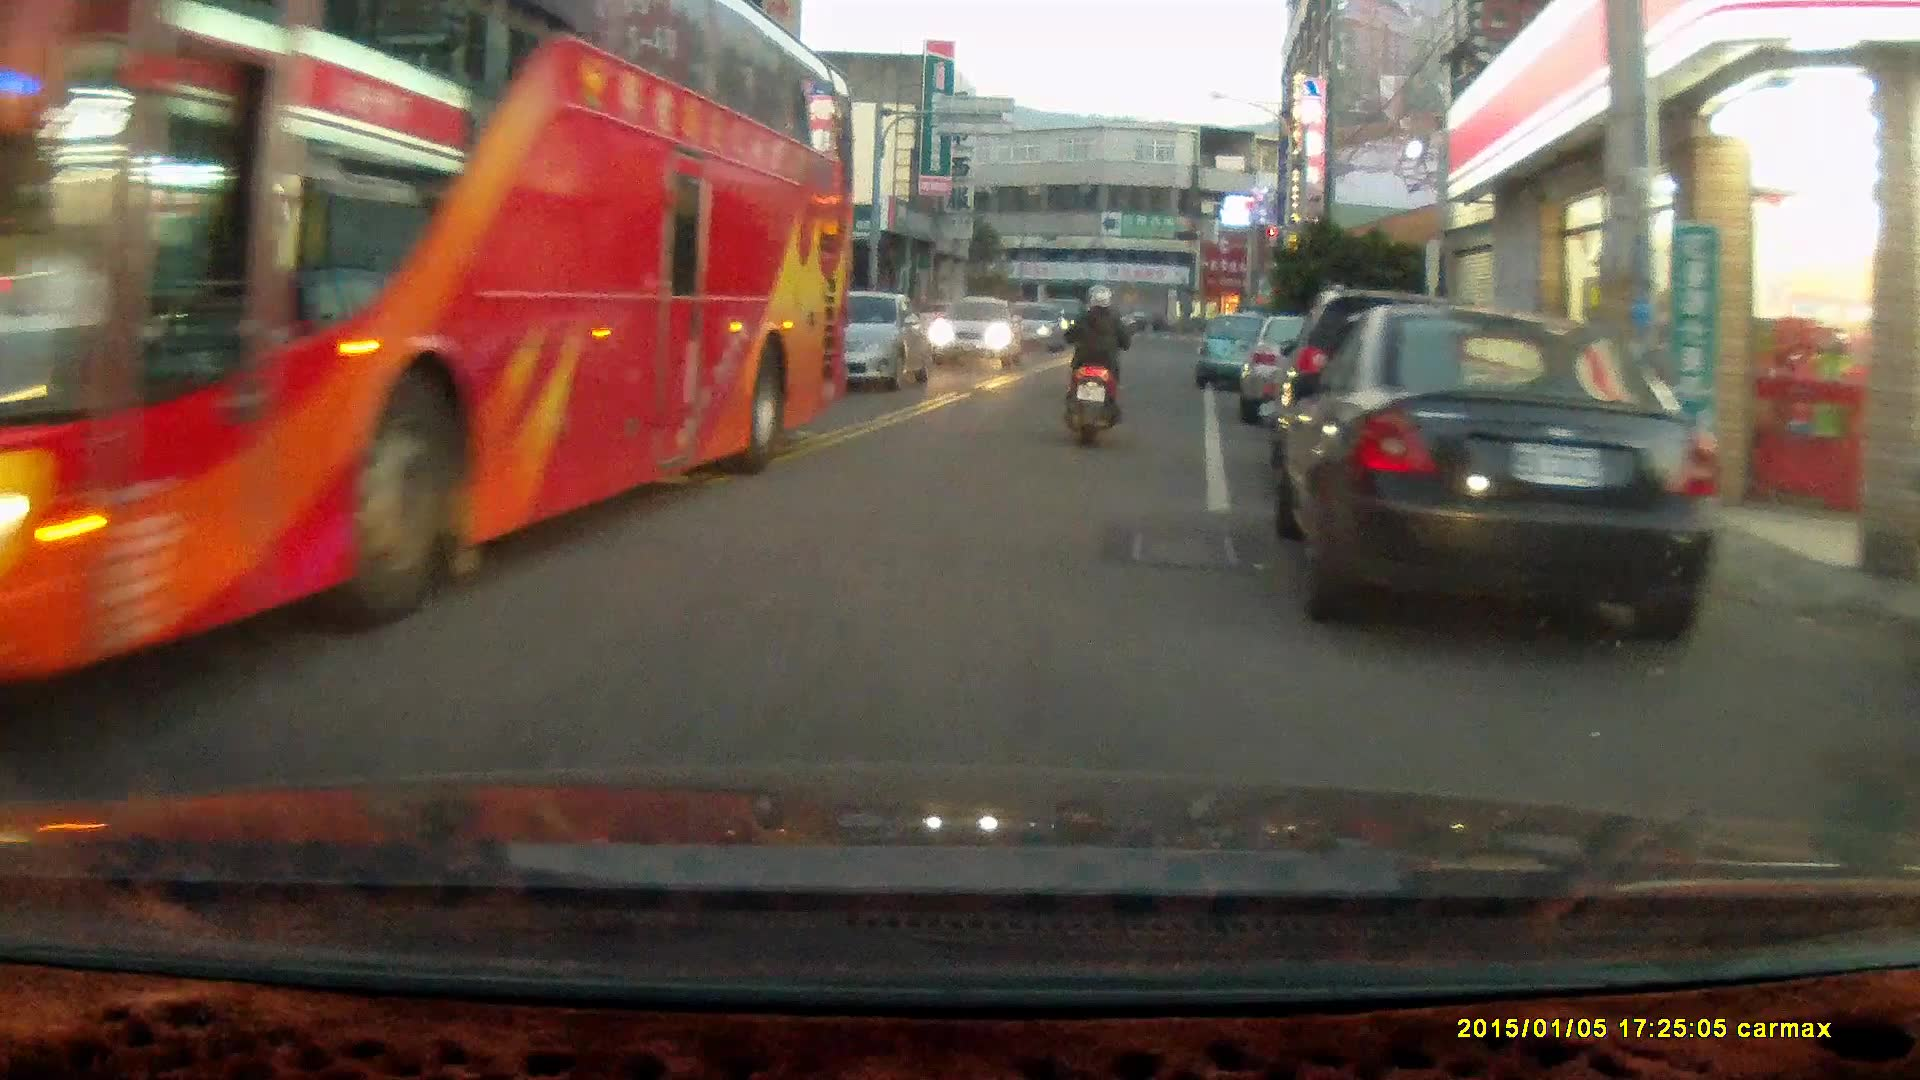rider: (1061, 284, 1130, 447)
vehicle: (1, 9, 862, 675), (1277, 305, 1735, 653), (1298, 270, 1559, 517), (1236, 312, 1375, 429), (781, 289, 927, 396), (1194, 309, 1288, 396), (929, 294, 1027, 369)
